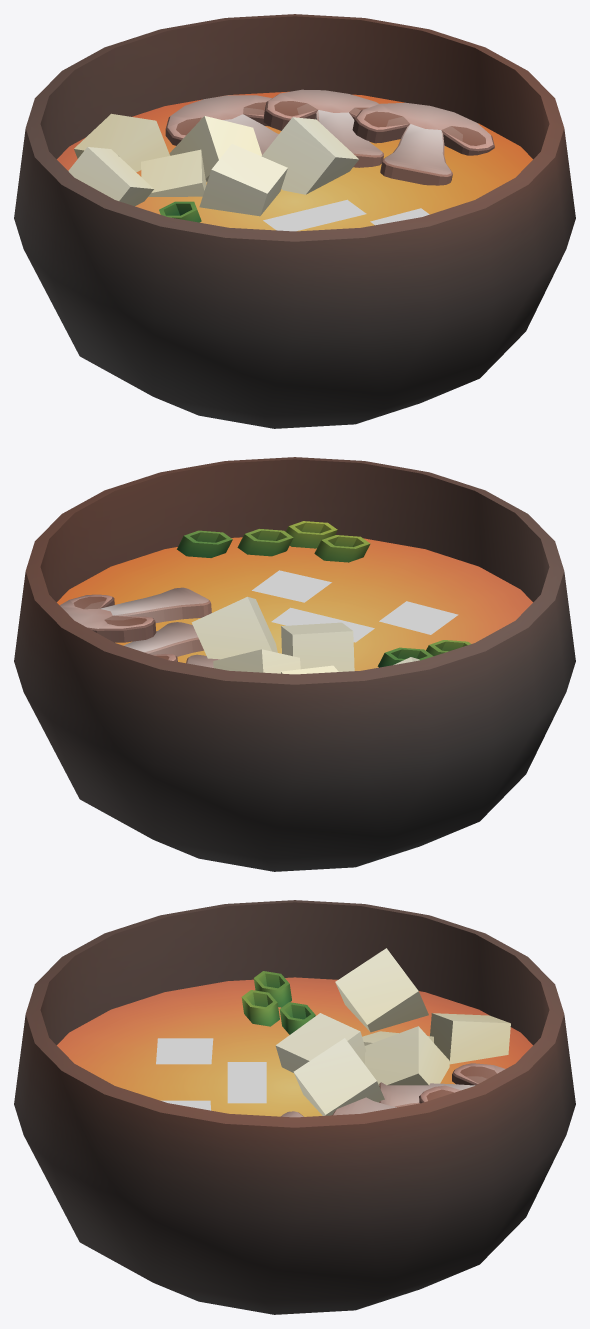
The model's file is plate_soup.fbx.
3 views of the same model, one above another, from view 1: azimuth 30°, elevation 25°; view 2: azimuth 150°, elevation 25°; view 3: azimuth 270°, elevation 25° (orthographic).
Parts seen in each view (by area): view 1: plate_soup; view 2: plate_soup; view 3: plate_soup.
Part boxes in pixels (<box>): plate_soup: <box>14,14,575,428</box>; plate_soup: <box>14,457,575,871</box>; plate_soup: <box>14,900,575,1314</box>.
Size of the model in its own units: 77.61 by 39.13 by 77.61.
Materials: 2 (1 with a texture image).
